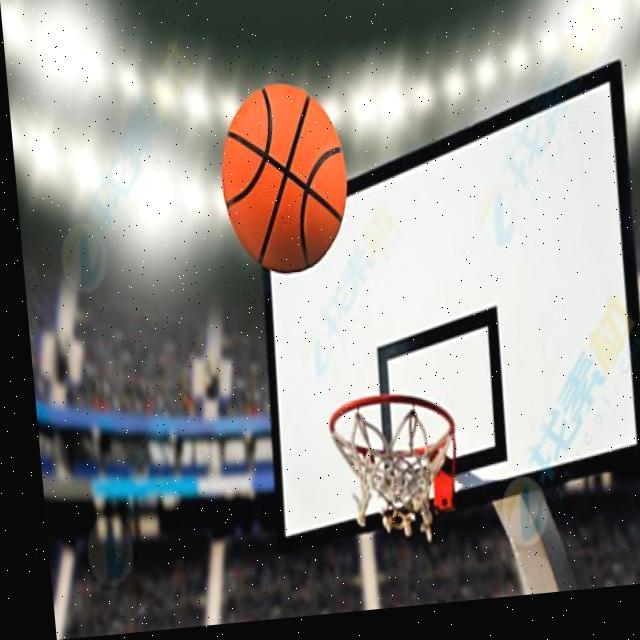basketball: (214, 78, 354, 280)
hoop: (329, 389, 466, 540)
